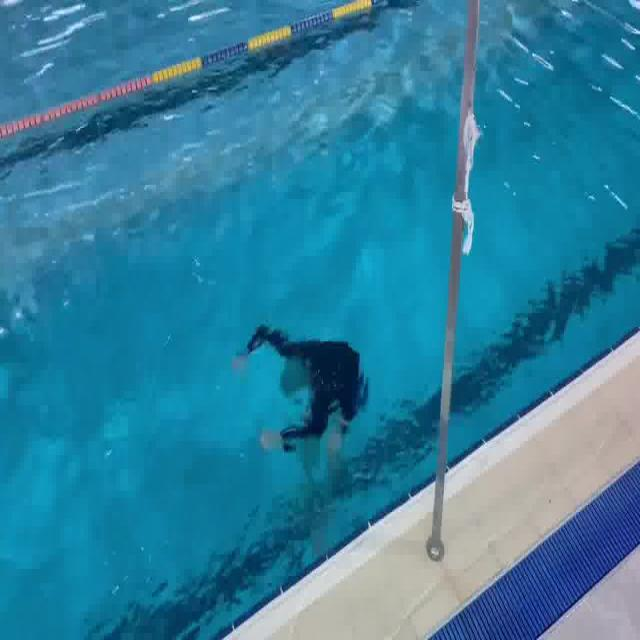Drowning: (230, 318, 370, 482)
